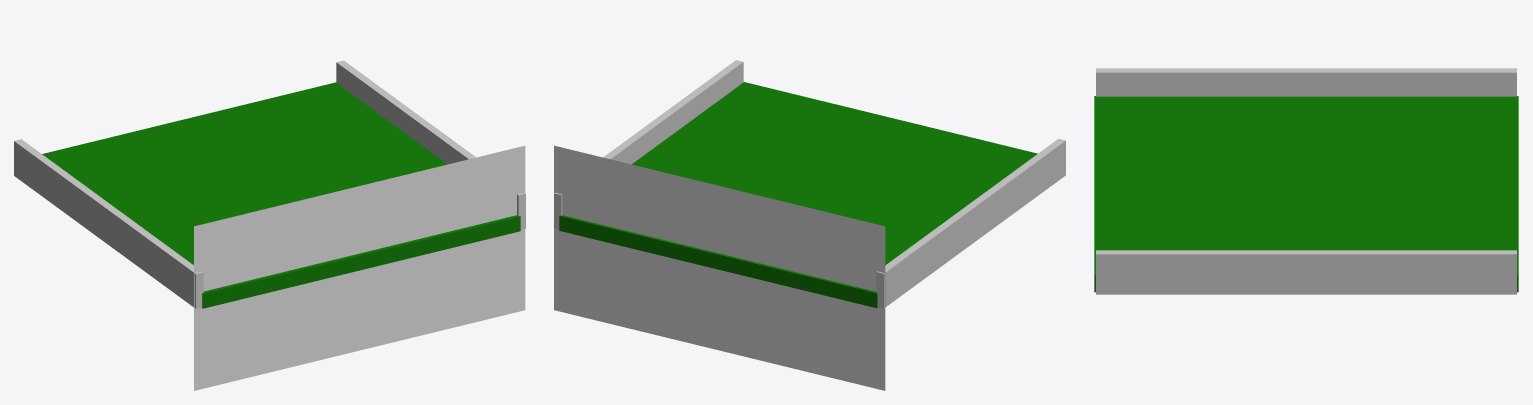
Rendered from straight.gltf.
3 views of the same model, side by side, from view 1: azimuth 30°, elevation 25°; view 2: azimuth 150°, elevation 25°; view 3: azimuth 270°, elevation 25° (orthographic). The views are drawn at different scales.
Visible parts, largest first — view 1: obj_snap, Cube, Cube.001, Cube.002; view 2: obj_snap.001, Cube, Cube.001, Cube.002; view 3: Cube, Cube.002, Cube.001.
Boxes of the visible parts, box(x1,y1,x2,y2) form: obj_snap: box(194, 145, 525, 390); Cube: box(42, 82, 520, 308); Cube.001: box(14, 139, 203, 308); Cube.002: box(336, 60, 525, 229); obj_snap.001: box(554, 145, 885, 390); Cube: box(559, 82, 1037, 308); Cube.001: box(876, 138, 1065, 308); Cube.002: box(554, 60, 743, 229); Cube: box(1094, 96, 1518, 292); Cube.002: box(1096, 250, 1516, 294); Cube.001: box(1096, 68, 1516, 96).
Size of the model in its own units: 4.21 by 2 by 4.04.
